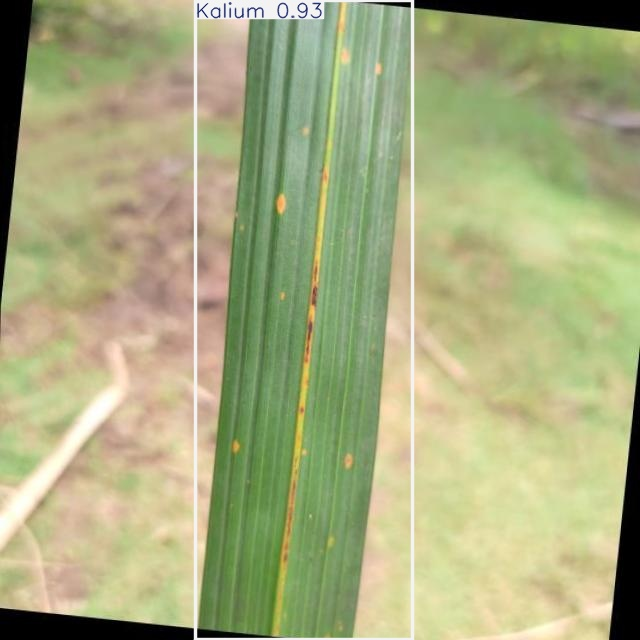Kalium: (195, 0, 412, 640)
